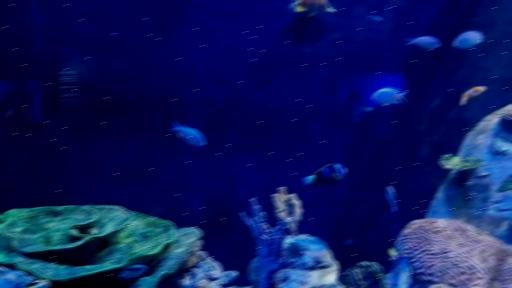Fish: (304, 165, 346, 184), (173, 121, 205, 145), (290, 0, 336, 15), (371, 87, 407, 105), (392, 256, 411, 287), (452, 31, 483, 48), (460, 86, 486, 105), (408, 36, 440, 49), (118, 265, 146, 278), (388, 186, 396, 211)
